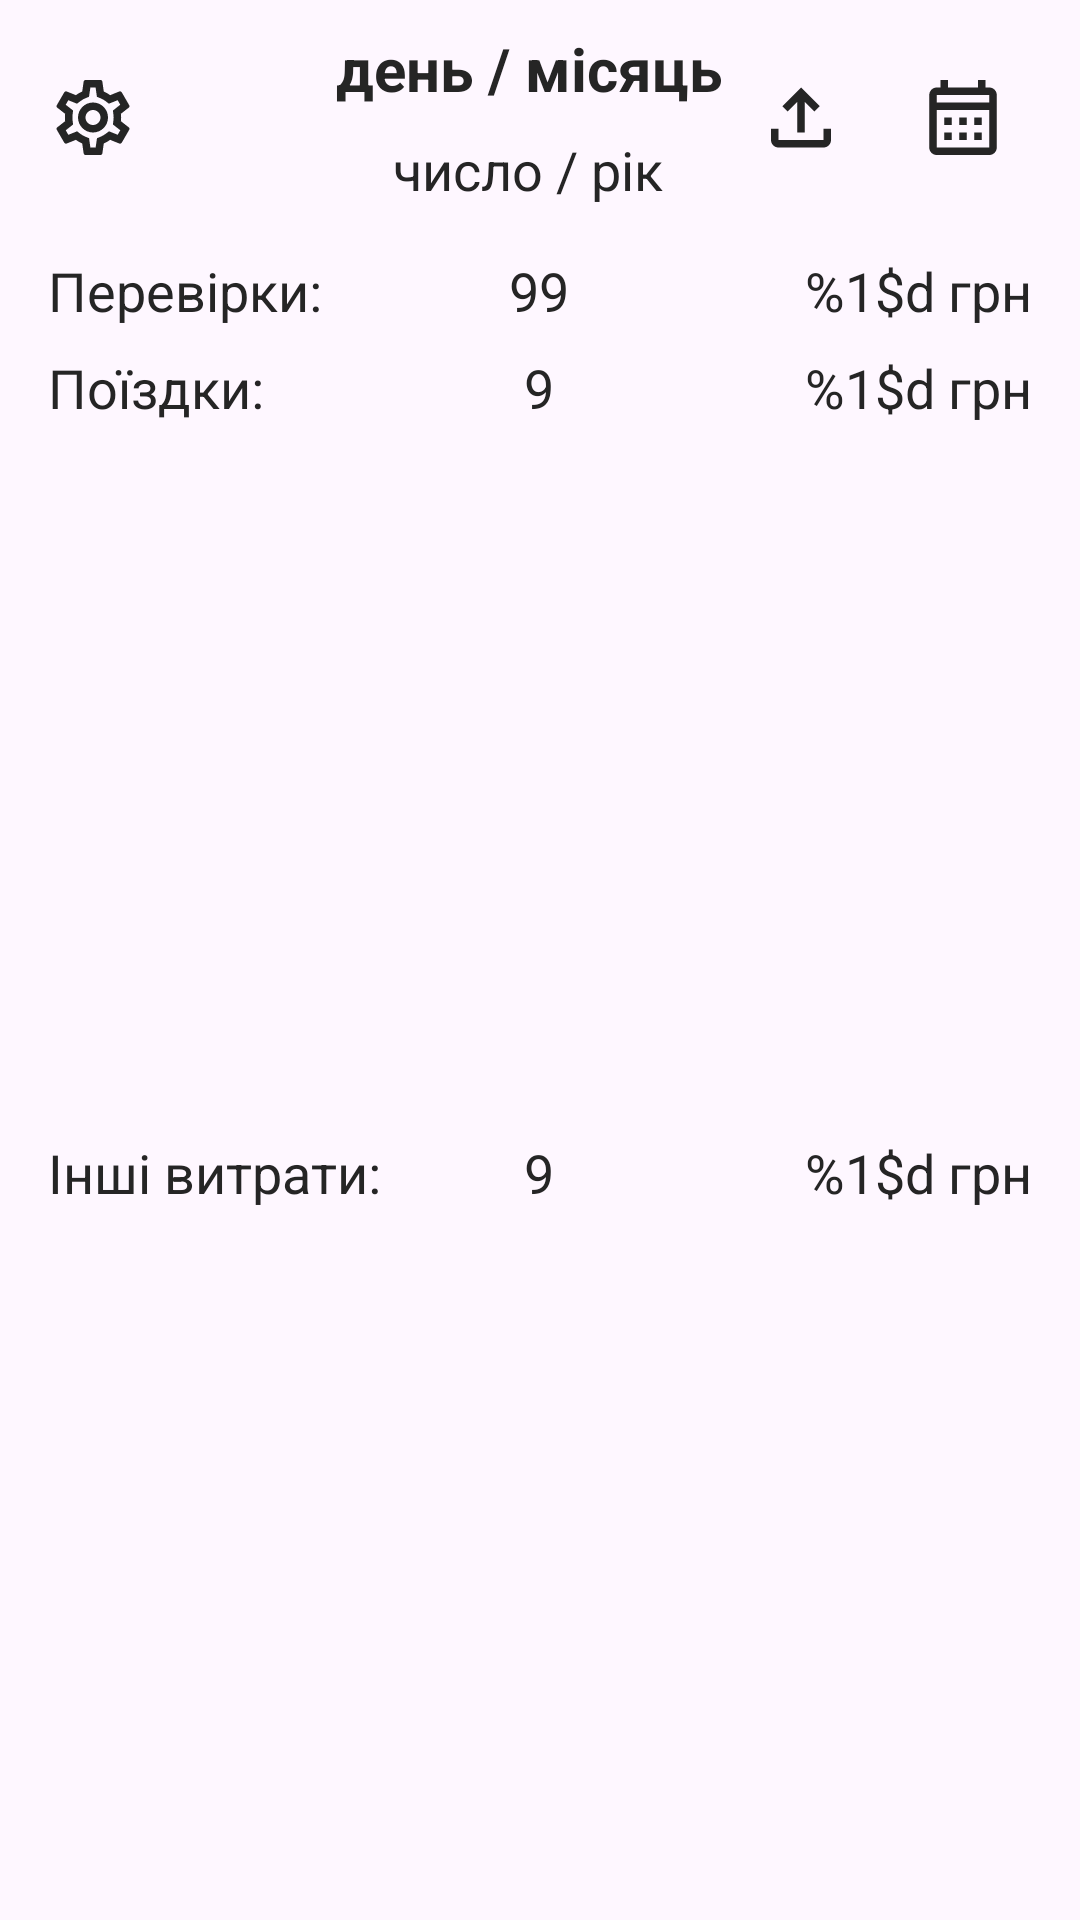

Icons on this 1080px×1920px Android screen, each with its box as region(x1, y1, x2, y2):
calendar month: region(929, 80, 997, 155)
settings: region(56, 80, 130, 155)
upload: region(771, 87, 831, 148)
